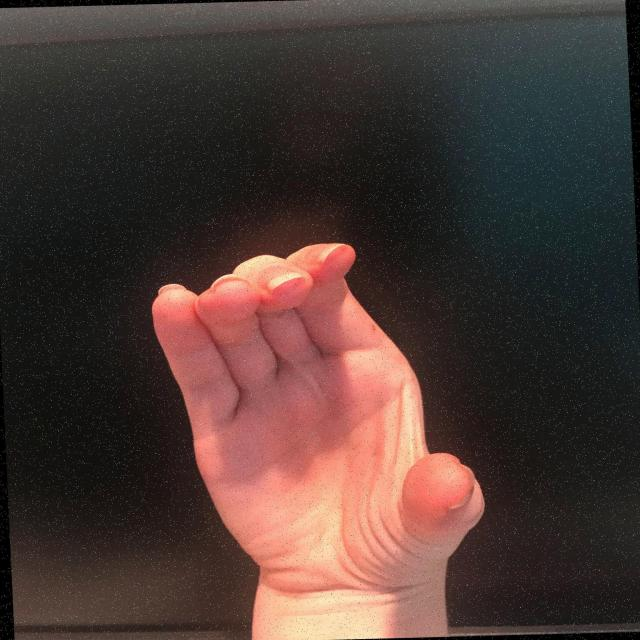C: (140, 233, 498, 605)
